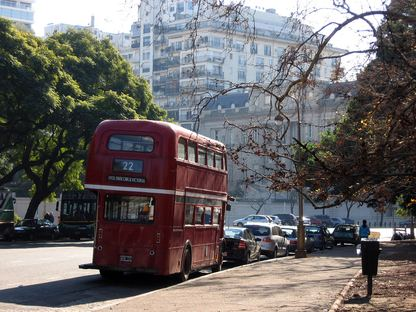bus: (79, 119, 228, 282), (57, 187, 101, 240)
car: (221, 223, 261, 267), (244, 223, 291, 254), (14, 215, 59, 240), (280, 226, 316, 250), (331, 225, 361, 245), (234, 214, 274, 228), (271, 213, 301, 228), (307, 216, 322, 226), (331, 215, 345, 225)
